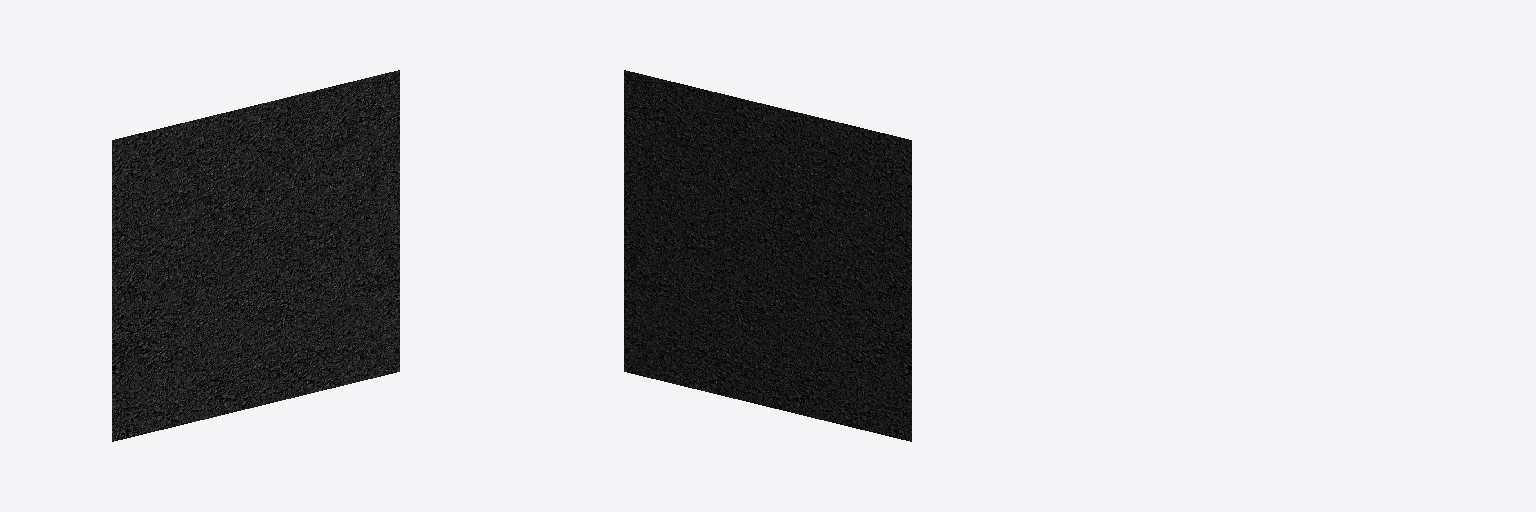
The picture shows the model from 3 angles: view 1: azimuth 30°, elevation 25°; view 2: azimuth 150°, elevation 25°; view 3: azimuth 270°, elevation 25°; orthographic projection.
Visible parts, largest first — view 1: Plane; view 2: Plane; view 3: none.
Part boxes in pixels (bbox=[...]): Plane: bbox=[112, 70, 399, 441]; Plane: bbox=[624, 70, 911, 441].
Size of the model in its own units: 800 by 800 by 0.
Materials: 1 (1 with a texture image).